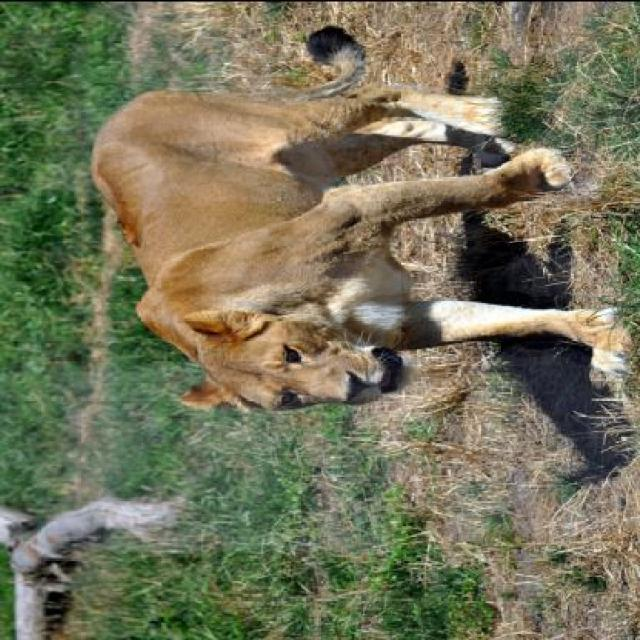Lion: (68, 17, 634, 458)
